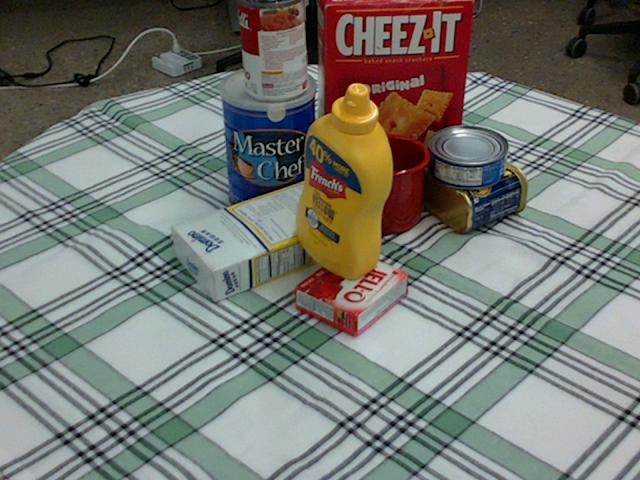cracker_box: (318, 0, 473, 181)
gelatin_box: (295, 248, 409, 336)
master_chef_can: (218, 65, 316, 219)
mug: (344, 131, 431, 232)
mustard_bottle: (296, 82, 392, 279)
potted_meat_can: (411, 139, 525, 229)
sugar_box: (169, 177, 359, 301)
tomato_soup_can: (238, 0, 306, 100)
tuna_fish_can: (427, 126, 507, 188)
